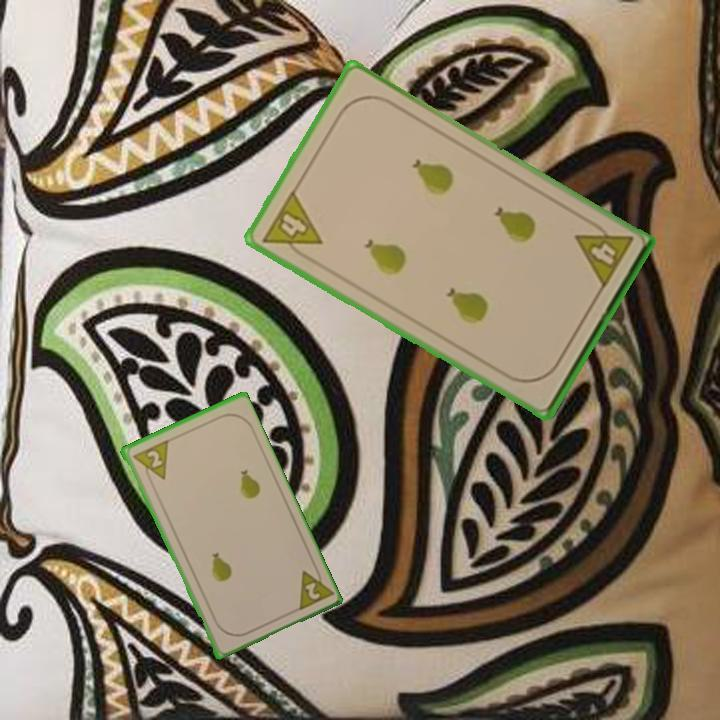2p: (292, 561, 334, 614), (129, 437, 171, 487)
4p: (258, 186, 325, 265), (571, 215, 636, 292)
